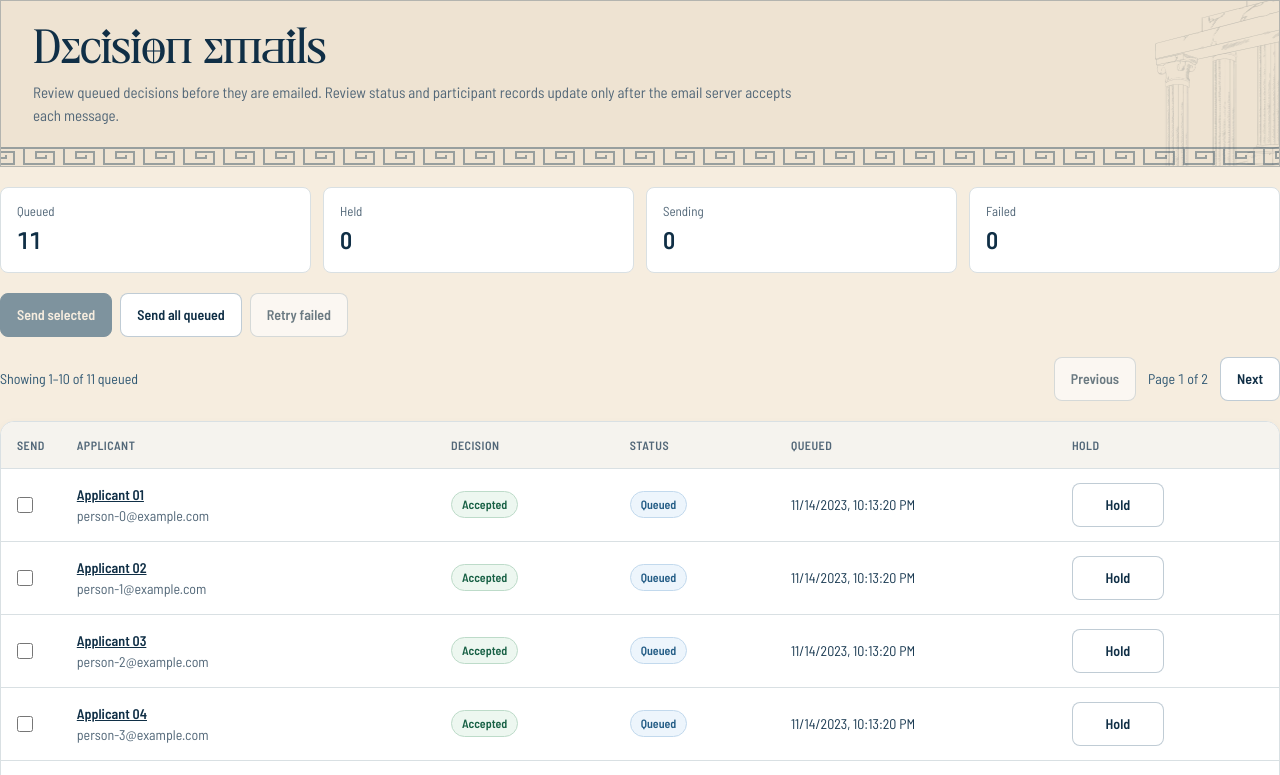
Test: DecisionEmailQueuePage › shows ten queued rows per page with navigation
Expected: the navigation bar named "Queued decision emails pages" is shown, [1054,356,1279,400]
Click the button "Next": (1250, 378) [1220,356,1279,400]
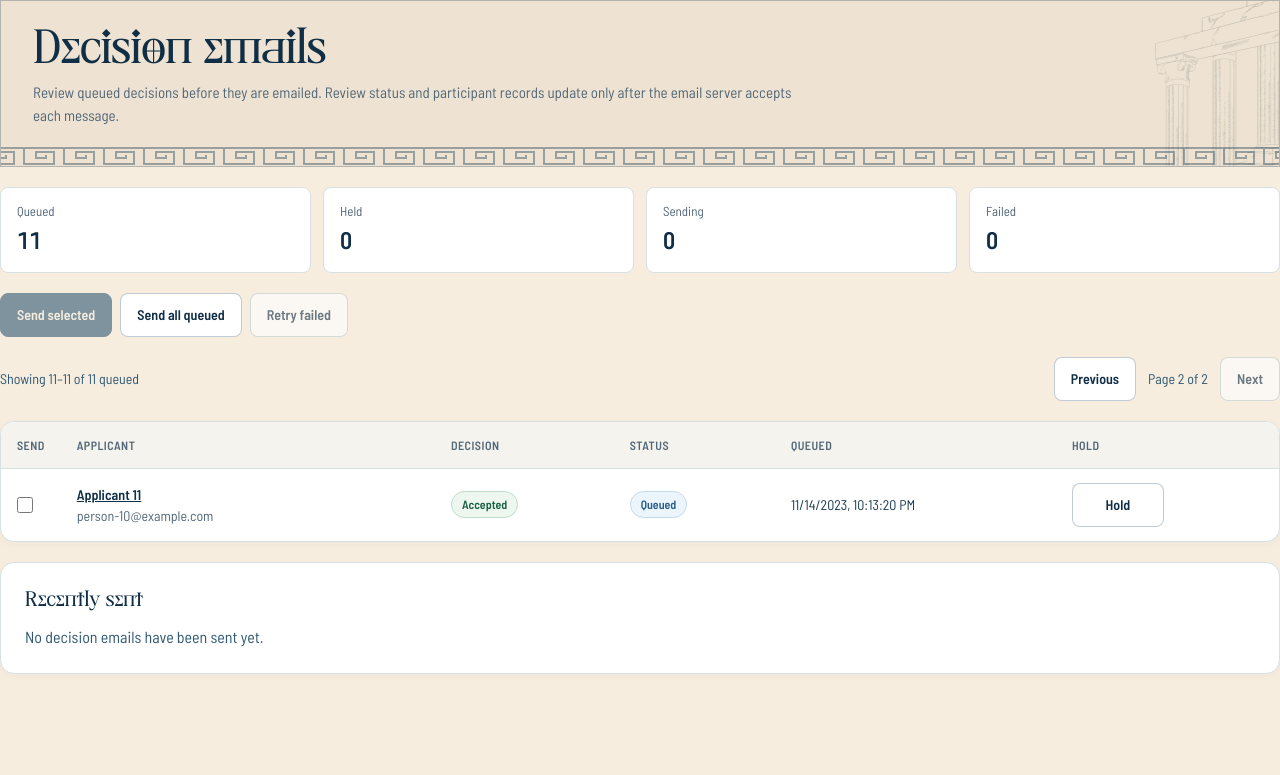
Expected: the text "Showing 11–11 of 11 queued" is shown, [0,368,139,388]
Expected: the text "Applicant 11" is shown, [77,486,141,502]
